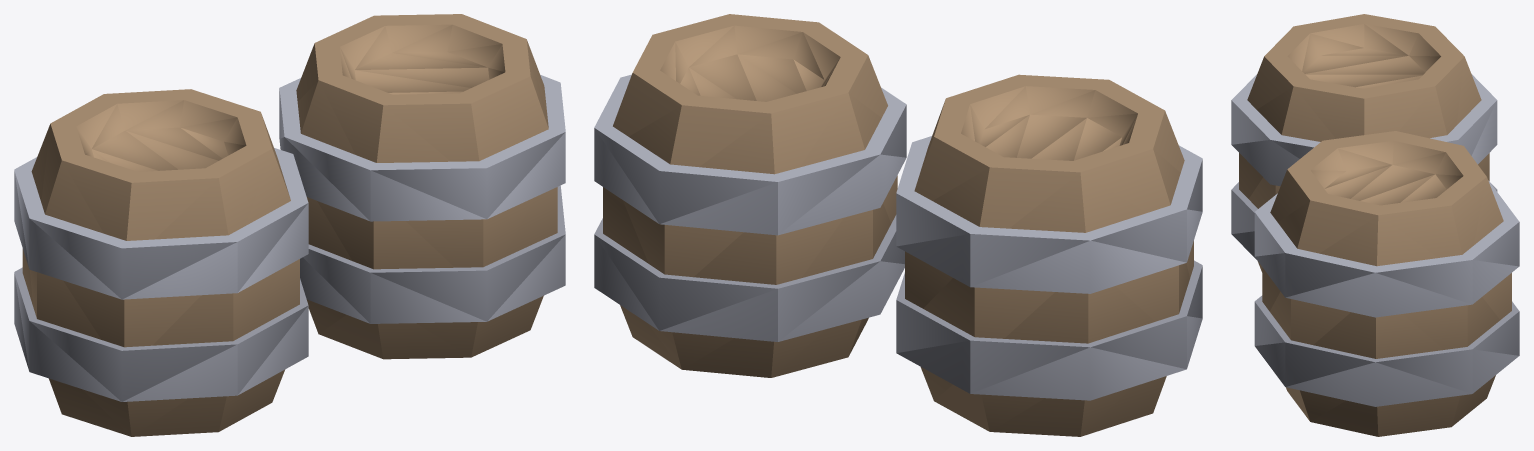
File: K_Barrels.glb
The picture shows the model from 3 angles, left to right: view 1: azimuth 30°, elevation 25°; view 2: azimuth 150°, elevation 25°; view 3: azimuth 270°, elevation 25°; orthographic projection. The views are drawn at different scales.
Visible parts, largest first — view 1: K_Barrels; view 2: K_Barrels; view 3: K_Barrels.
Boxes of the visible parts, <box> form: K_Barrels: <box>14,14,565,436</box>; K_Barrels: <box>594,14,1202,436</box>; K_Barrels: <box>1231,14,1519,436</box>.
Bounding box in the file's own units: 2.39 × 1.08 × 1.27.
